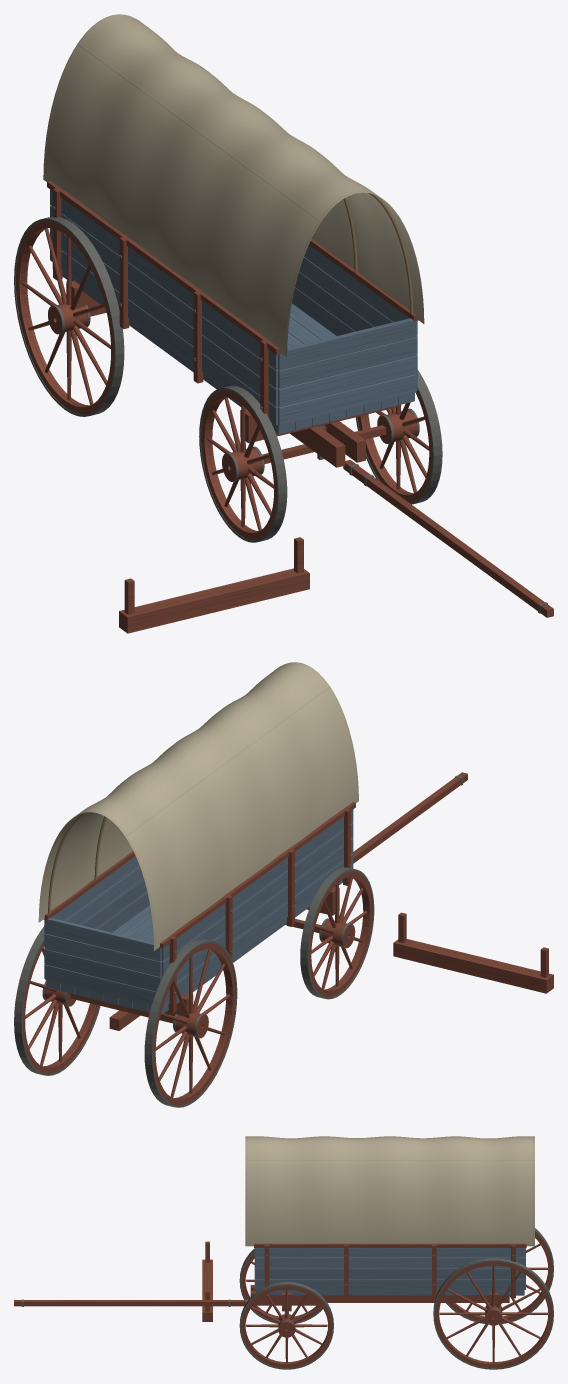
File: covered-w01.glb
3 renders of one model, top to bottom at view 1: azimuth 30°, elevation 25°; view 2: azimuth 150°, elevation 25°; view 3: azimuth 270°, elevation 25°, orthographic. The views are drawn at different scales.
Visible parts, largest first — view 1: covered_original_canvas_sheet, vehicle_body_plank_b, vehicle_body_plank_a, vehicle_wheel_rear_right_timber, vehicle_body_paint, covered_preserved_laid_by_yoke, vehicle_wheel_front_right_timber, vehicle_wheel_rear_right_iron, vehicle_tongue_timber, vehicle_wheel_front_left_timber, vehicle_steer_front_paint, vehicle_wheel_front_right_iron (+7 smaller); view 2: covered_original_canvas_sheet, vehicle_body_plank_b, vehicle_body_plank_a, vehicle_wheel_rear_right_timber, vehicle_body_paint, covered_preserved_laid_by_yoke, vehicle_wheel_front_right_timber, vehicle_wheel_rear_left_timber, vehicle_wheel_rear_right_iron, vehicle_wheel_front_right_iron, vehicle_wheel_rear_left_iron, vehicle_tongue_timber (+5 smaller); view 3: covered_original_canvas_sheet, vehicle_body_plank_b, vehicle_body_plank_a, vehicle_wheel_rear_left_timber, vehicle_wheel_front_left_timber, vehicle_body_paint, vehicle_tongue_timber, vehicle_root_paint, vehicle_wheel_rear_left_iron, covered_original_sewn_and_folded_hems, vehicle_wheel_rear_right_timber, vehicle_wheel_front_left_iron (+5 smaller).
Boxes of the visible parts, x1=… form: covered_original_canvas_sheet: x1=43, y1=14, x2=424, y2=357; vehicle_body_plank_b: x1=50, y1=189, x2=417, y2=430; vehicle_body_plank_a: x1=50, y1=205, x2=417, y2=434; vehicle_wheel_rear_right_timber: x1=16, y1=221, x2=113, y2=414; vehicle_body_paint: x1=47, y1=181, x2=418, y2=416; covered_preserved_laid_by_yoke: x1=119, y1=537, x2=309, y2=633; vehicle_wheel_front_right_timber: x1=201, y1=390, x2=276, y2=539; vehicle_wheel_rear_right_iron: x1=14, y1=216, x2=124, y2=416; vehicle_tongue_timber: x1=343, y1=460, x2=553, y2=617; vehicle_wheel_front_left_timber: x1=357, y1=391, x2=432, y2=502; vehicle_steer_front_paint: x1=262, y1=421, x2=386, y2=467; vehicle_wheel_front_right_iron: x1=199, y1=385, x2=287, y2=542; covered_original_canvas_sheet: x1=38, y1=662, x2=358, y2=950; vehicle_body_plank_b: x1=44, y1=809, x2=353, y2=1011; vehicle_body_plank_a: x1=44, y1=823, x2=353, y2=1013; vehicle_wheel_rear_right_timber: x1=153, y1=943, x2=235, y2=1105; vehicle_body_paint: x1=43, y1=802, x2=355, y2=1013; covered_preserved_laid_by_yoke: x1=393, y1=912, x2=553, y2=993; vehicle_wheel_front_right_timber: x1=309, y1=871, x2=372, y2=996; vehicle_wheel_rear_left_timber: x1=22, y1=941, x2=99, y2=1073; vehicle_wheel_rear_right_iron: x1=144, y1=939, x2=237, y2=1107; vehicle_wheel_front_right_iron: x1=300, y1=867, x2=374, y2=999; vehicle_wheel_rear_left_iron: x1=14, y1=926, x2=100, y2=1075; vehicle_tongue_timber: x1=353, y1=772, x2=467, y2=863; covered_original_canvas_sheet: x1=245, y1=1136, x2=534, y2=1246; vehicle_body_plank_b: x1=254, y1=1248, x2=525, y2=1295; vehicle_body_plank_a: x1=254, y1=1257, x2=525, y2=1290; vehicle_wheel_rear_left_timber: x1=435, y1=1262, x2=552, y2=1367; vehicle_wheel_front_left_timber: x1=241, y1=1286, x2=332, y2=1367; vehicle_body_paint: x1=254, y1=1243, x2=526, y2=1298; vehicle_tongue_timber: x1=14, y1=1300, x2=255, y2=1306; vehicle_root_paint: x1=282, y1=1292, x2=509, y2=1311; vehicle_wheel_rear_left_iron: x1=433, y1=1258, x2=553, y2=1369; covered_original_sewn_and_folded_hems: x1=245, y1=1136, x2=534, y2=1246; vehicle_wheel_rear_right_timber: x1=448, y1=1232, x2=552, y2=1322; vehicle_wheel_front_left_iron: x1=239, y1=1281, x2=333, y2=1369.
Size of the model in its own units: 2.77 by 2.6 by 6.14.
9 materials, 9 textured.
